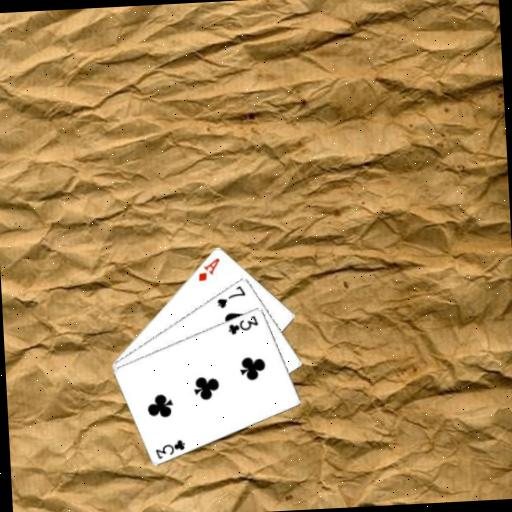3C: (152, 436, 188, 461), (224, 312, 260, 336)
7S: (213, 283, 248, 311)
AD: (194, 255, 222, 283)
